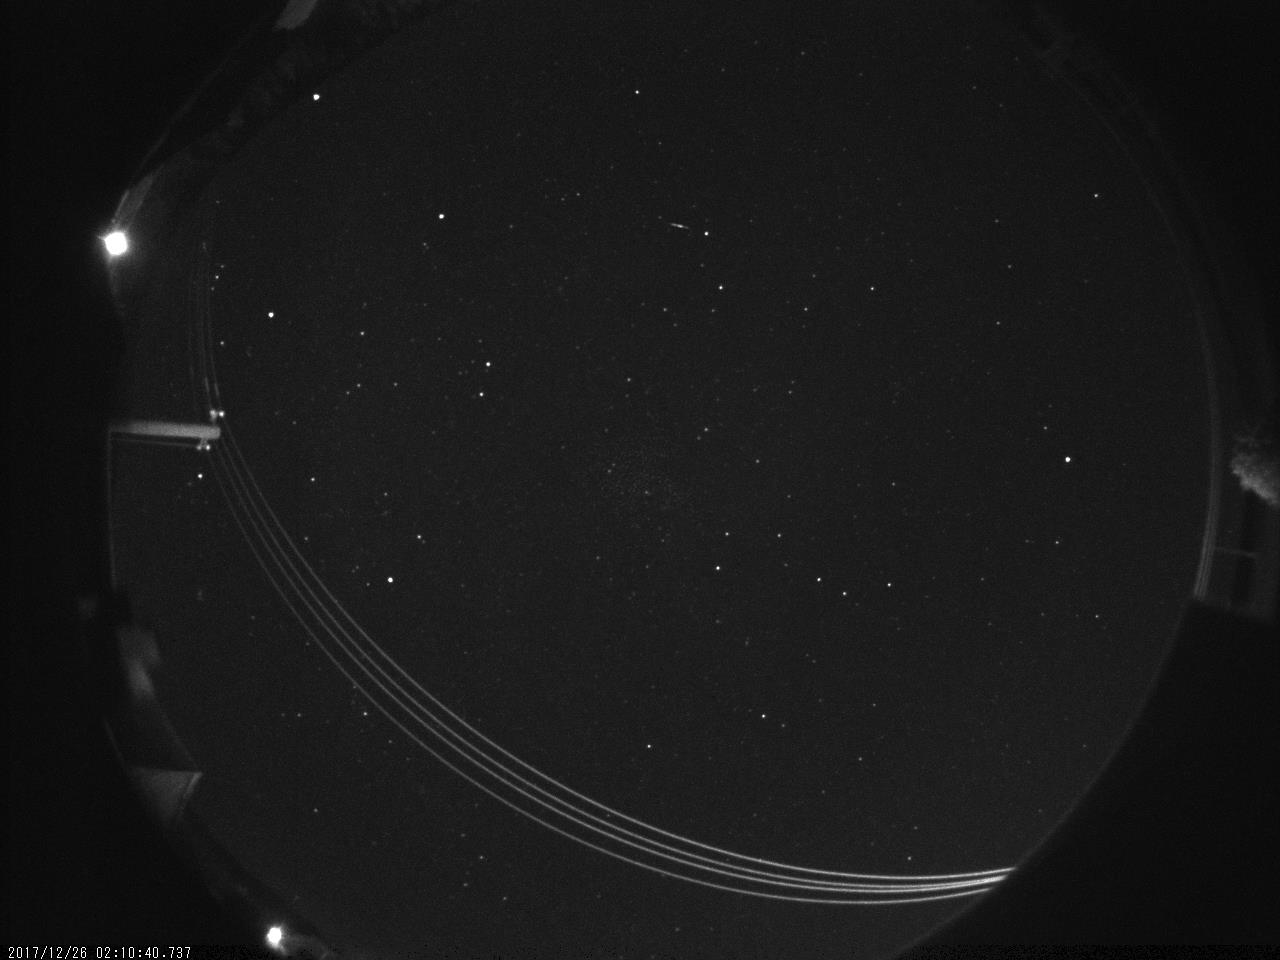meteor: (670, 219, 691, 236)
